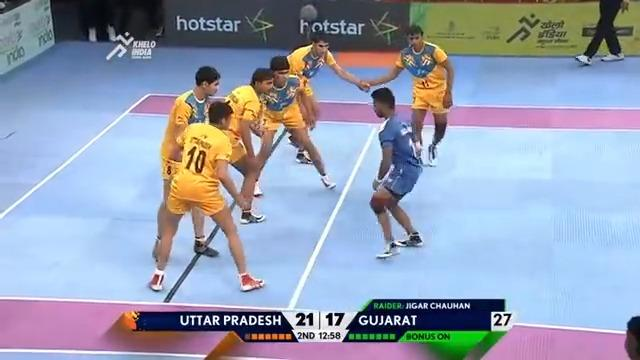Player: (147, 102, 265, 292), (151, 65, 222, 261), (361, 23, 454, 165), (251, 54, 336, 196), (283, 32, 370, 164), (211, 67, 274, 224)
Raider: (367, 86, 424, 259)
referee: (77, 0, 165, 43), (574, 0, 629, 65), (623, 315, 639, 359)
